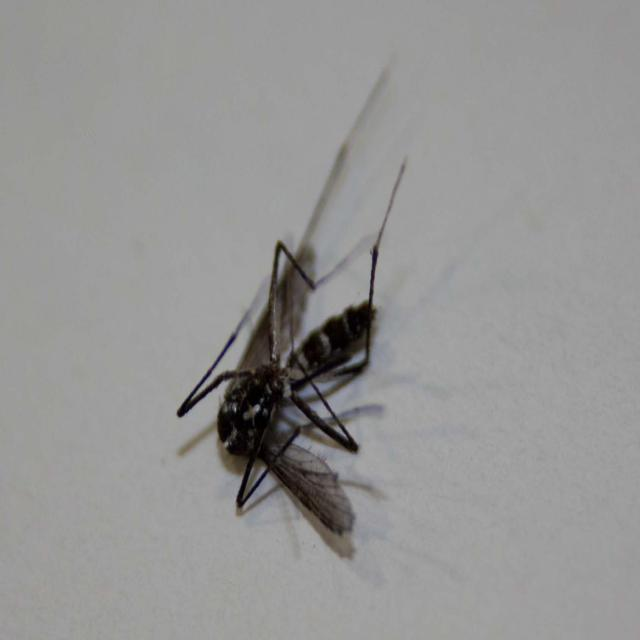albopictus: (162, 138, 422, 549)
